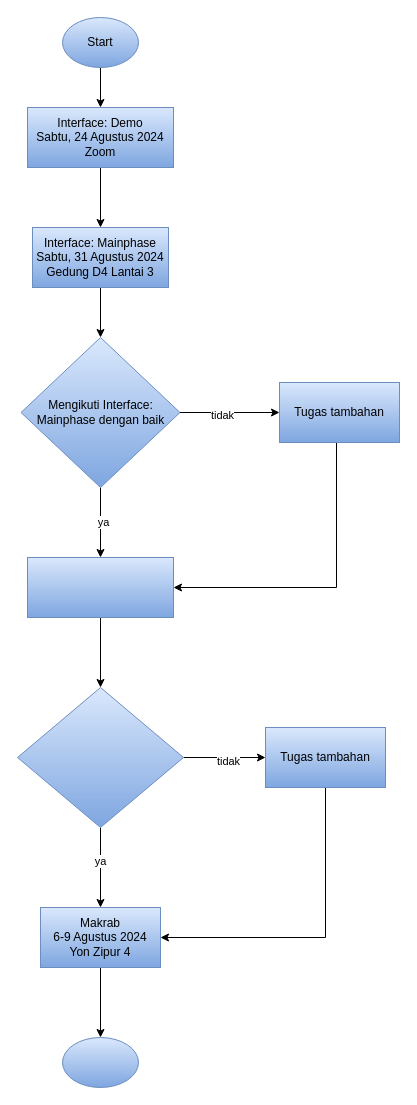
Some shapes in this 417 by 1105 pixel diagram are drawn without their labels. Each missing label, with the centre of its shape:
"End" goes at (x=100, y=1062).
"Interface: PKMMPD Minggu, 1 september 2024 Gedung D4 Lantai 3" goes at (x=100, y=587).
"Mengeikuti Interface: PKMMPD dengan baik" goes at (x=100, y=757).
